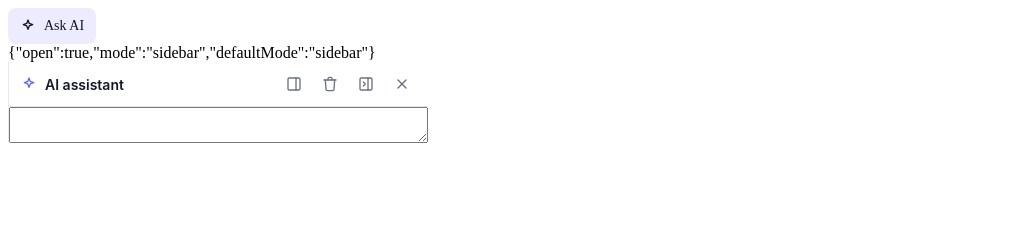
Test: layout menu › outside click and Tab close the menu
This screenshot has width=1024, height=228.
Earlier steps of the test are not shown.
Click the button named "Layout: ". click: point(294, 84)
box: [280,70,308,98]
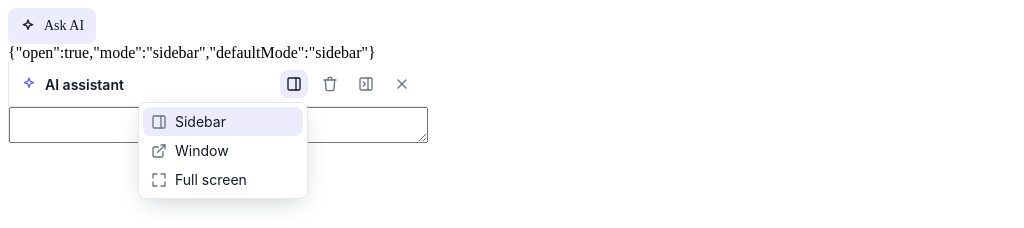
expect the menu is shown: met, box [138,102,308,199]
Press the mouse on the element that starts with "Ask AI" at point(192, 52), box [8,8,1016,143]
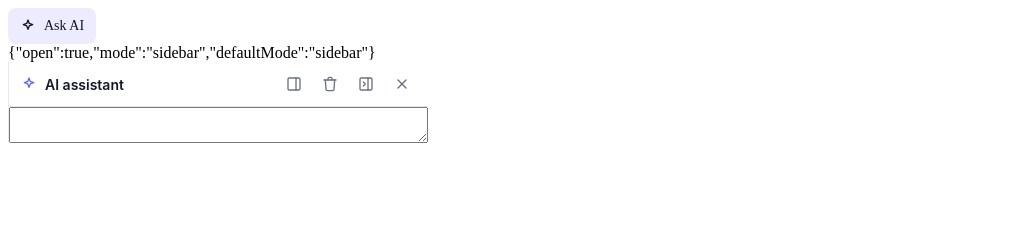
expect the menu is gone: met
Press ArrowDown in the button named "Layout: ", box [280,70,308,98]
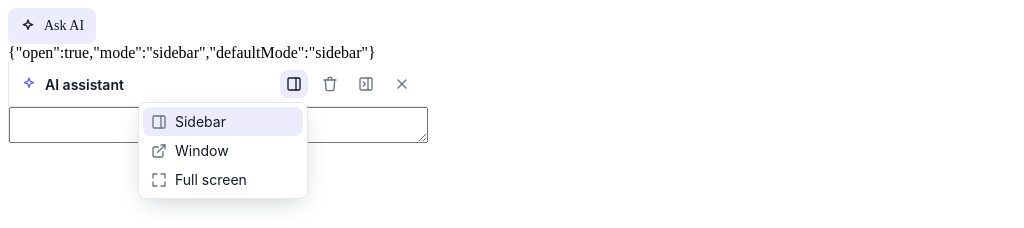
Press Tab in the menu item "Sidebar", box [143,107,303,136]
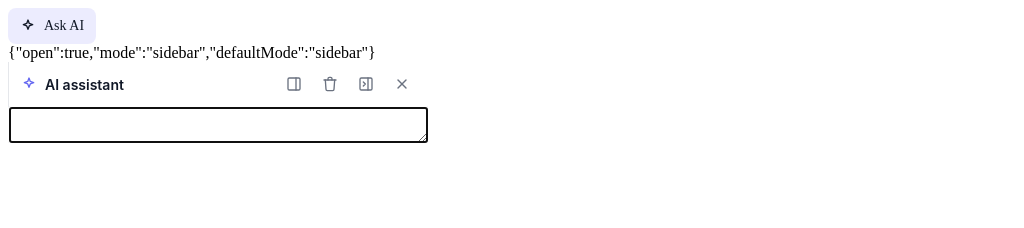
expect the menu is gone: met
